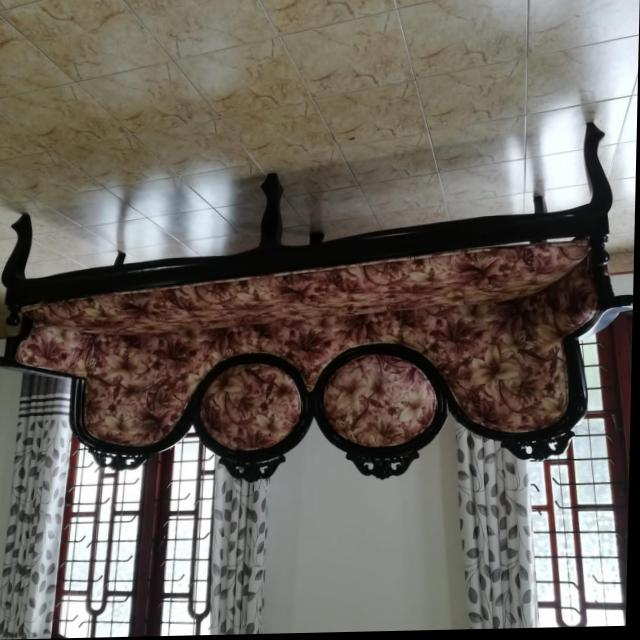Sofa: (0, 125, 634, 487)
